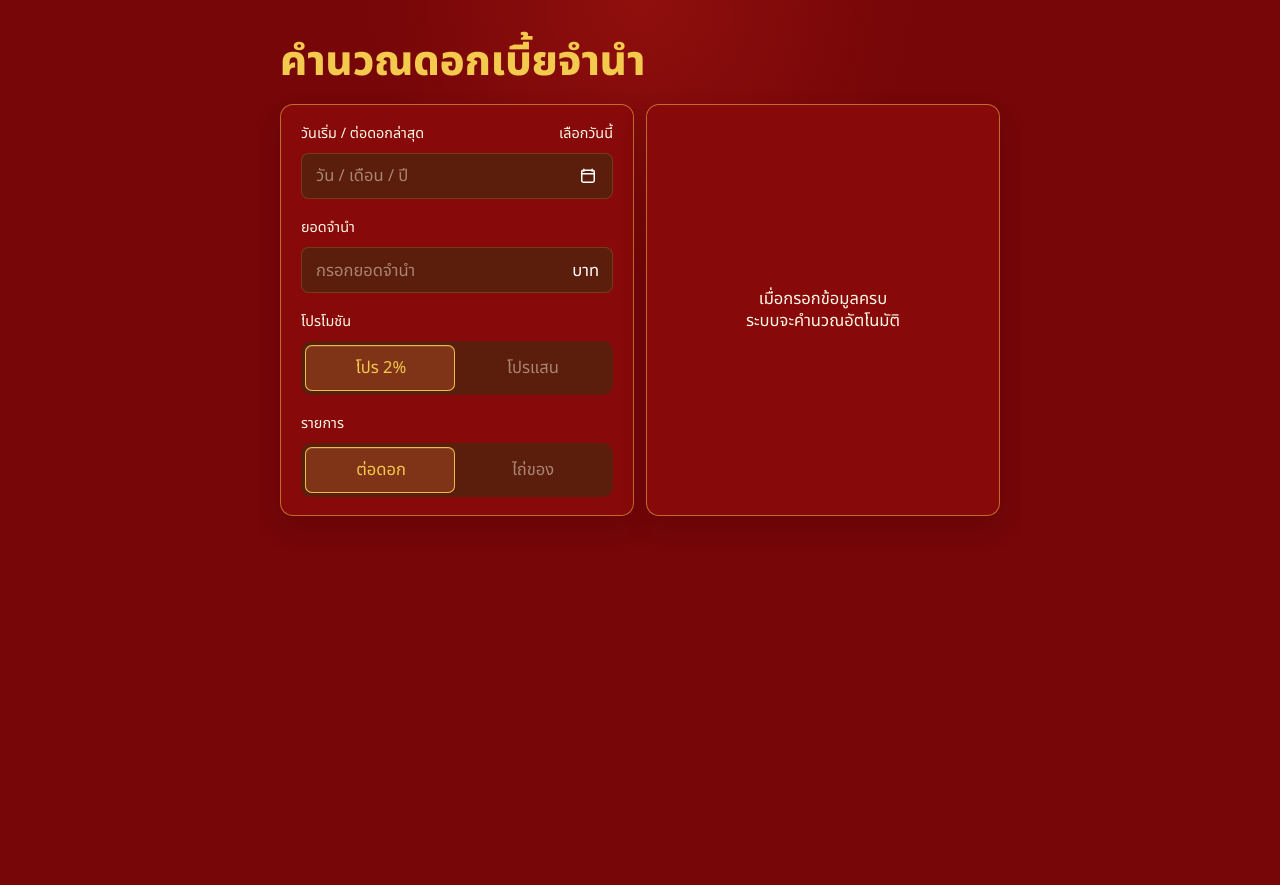
Test: ManualCalculator › shows one started month for same-day redeem
Click the button with aria-label "วันเริ่ม / ต่อดอกล่าสุด" at (362, 176), box x1=301 y1=153 x2=613 y2=199
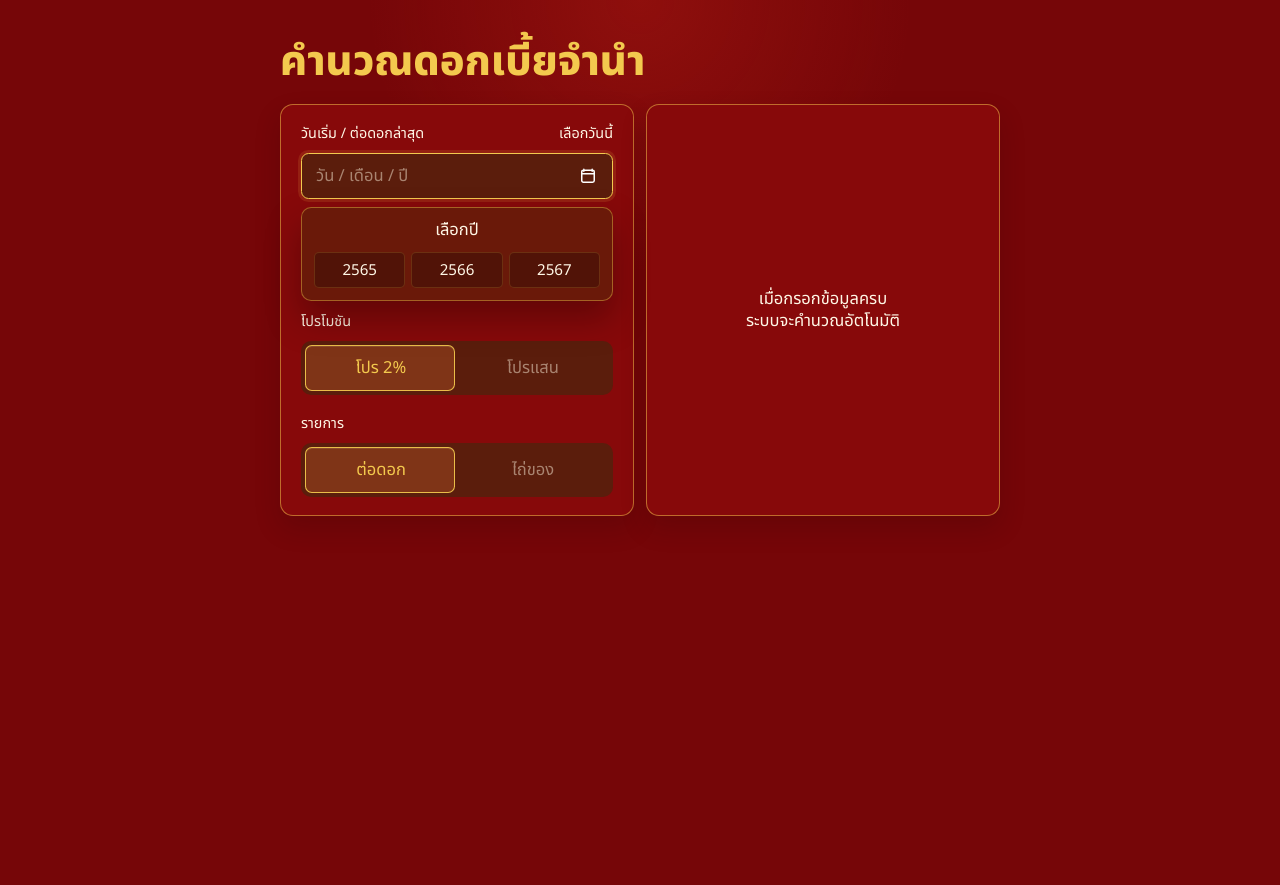
Click the button "2567" at (554, 270), box x1=509 y1=252 x2=600 y2=288
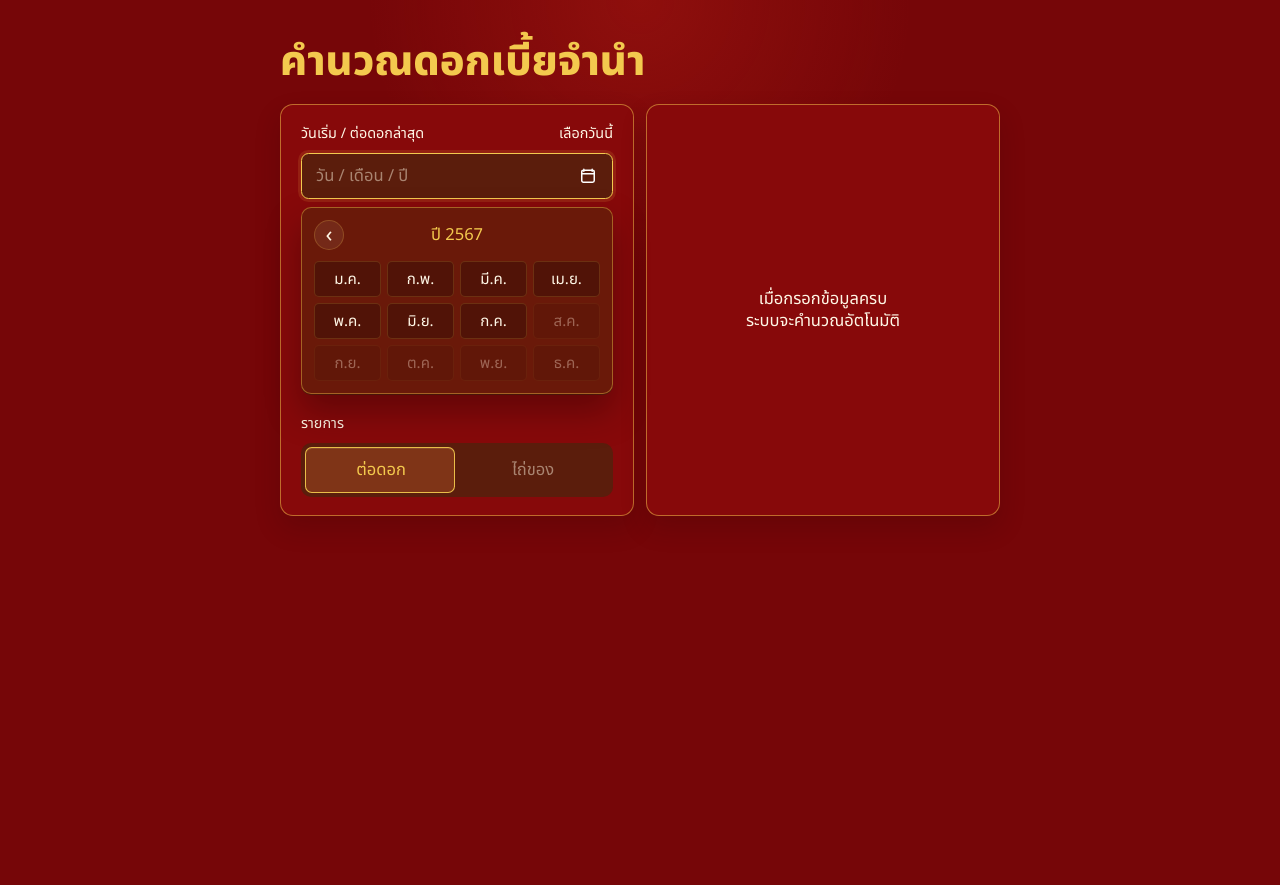
Click the button "ก.ค." at (494, 321), box x1=460 y1=303 x2=527 y2=339
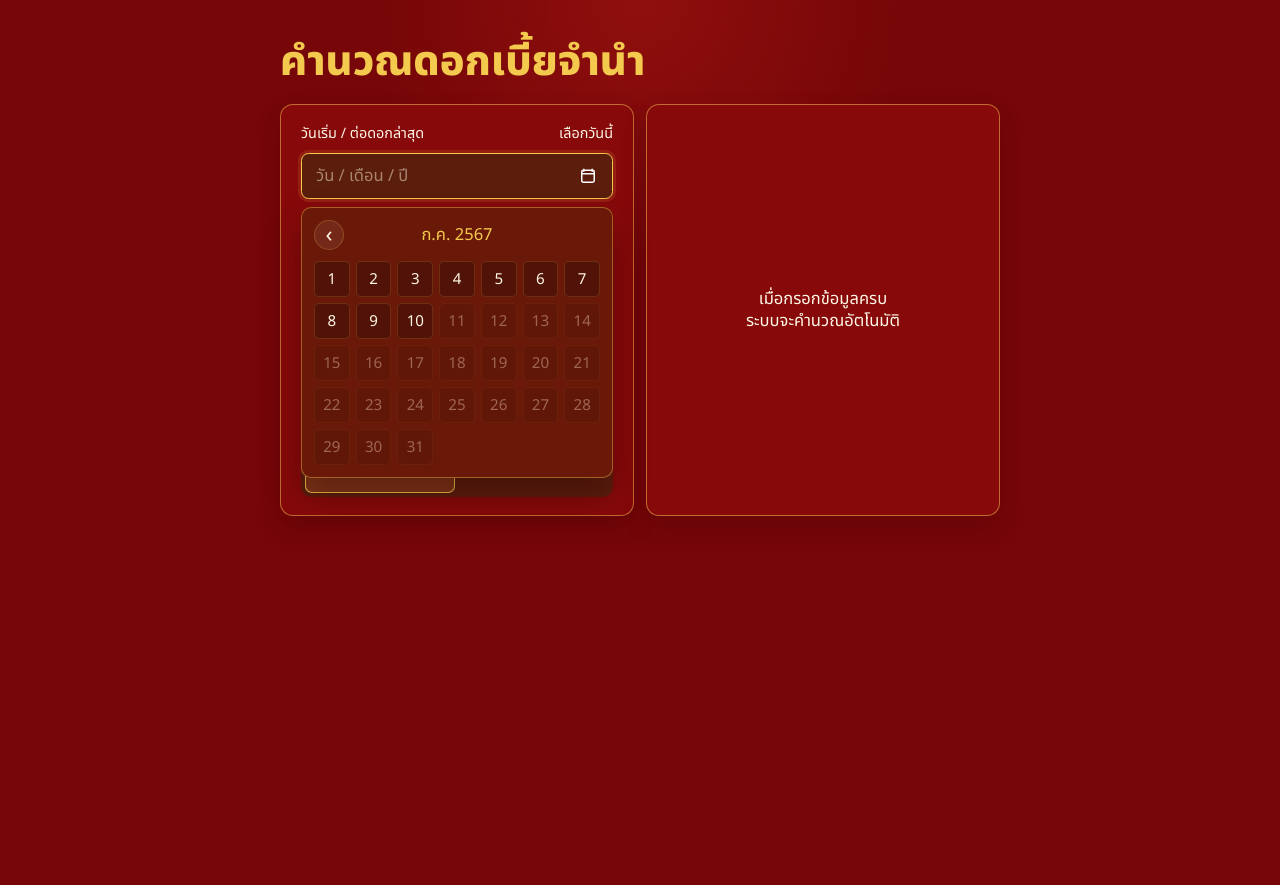
Click the button "10" at (415, 321), box x1=397 y1=303 x2=433 y2=339
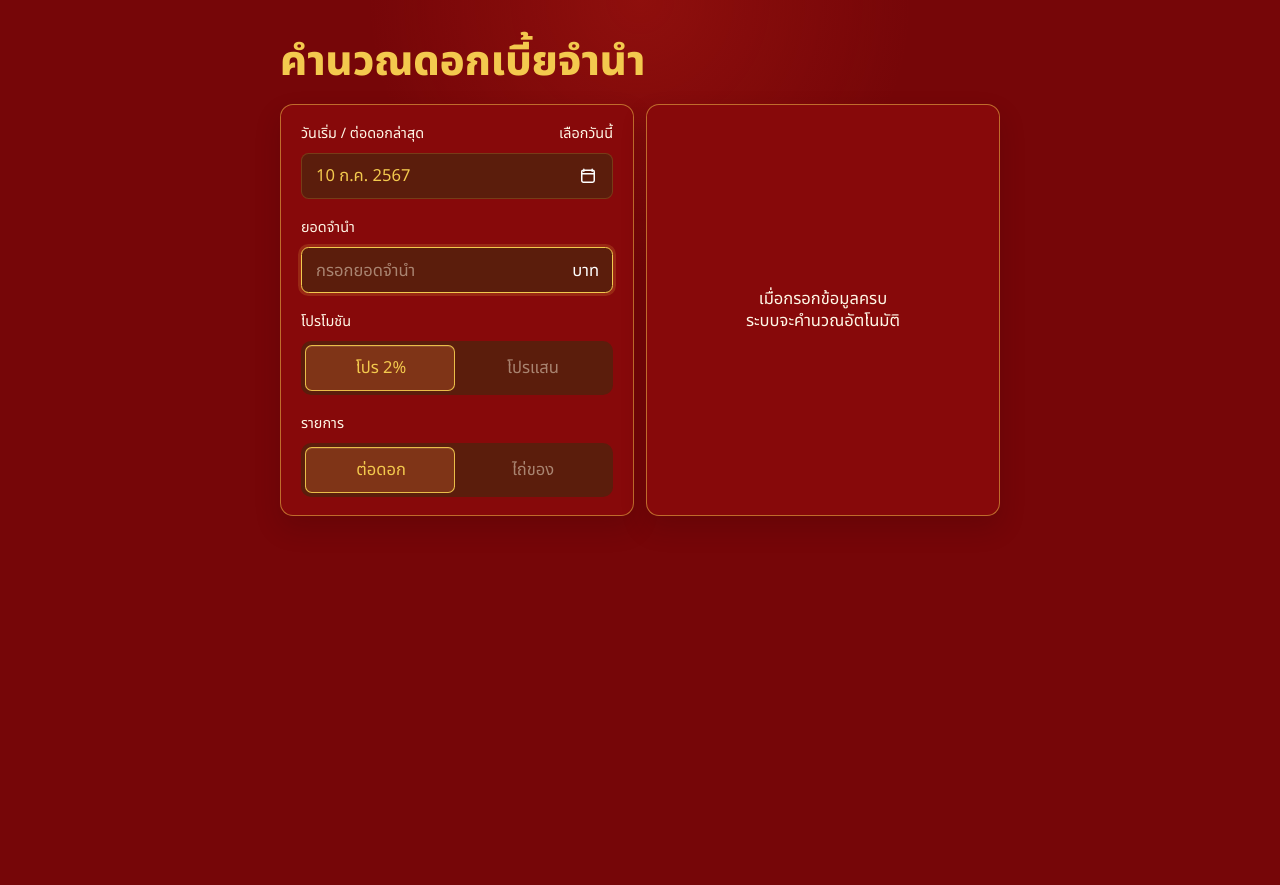
Type "12000" into the field labelled "ยอดจำนำ" at (457, 270), box x1=301 y1=247 x2=613 y2=293
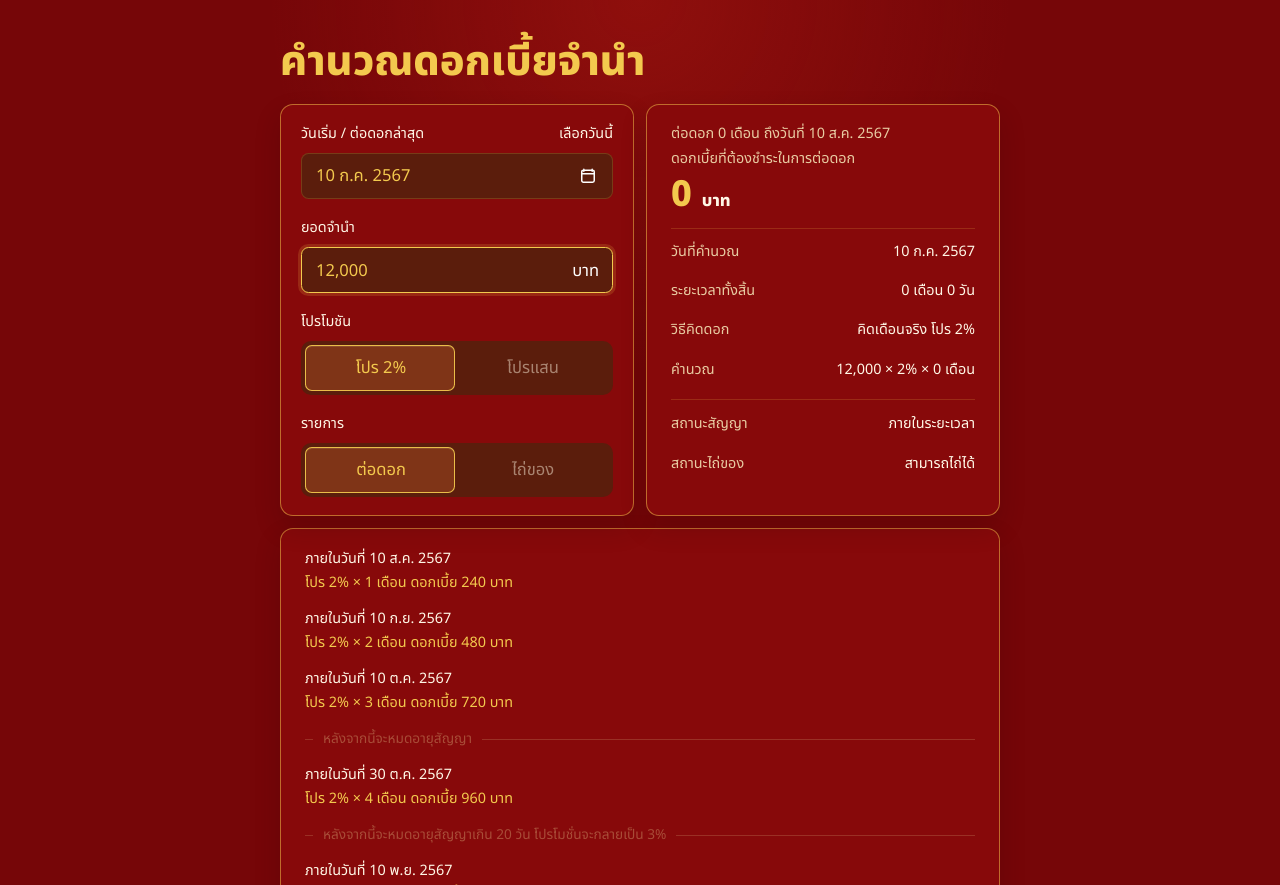
Click the radio button labelled "ไถ่ของ" at (533, 470), box x1=457 y1=447 x2=609 y2=493
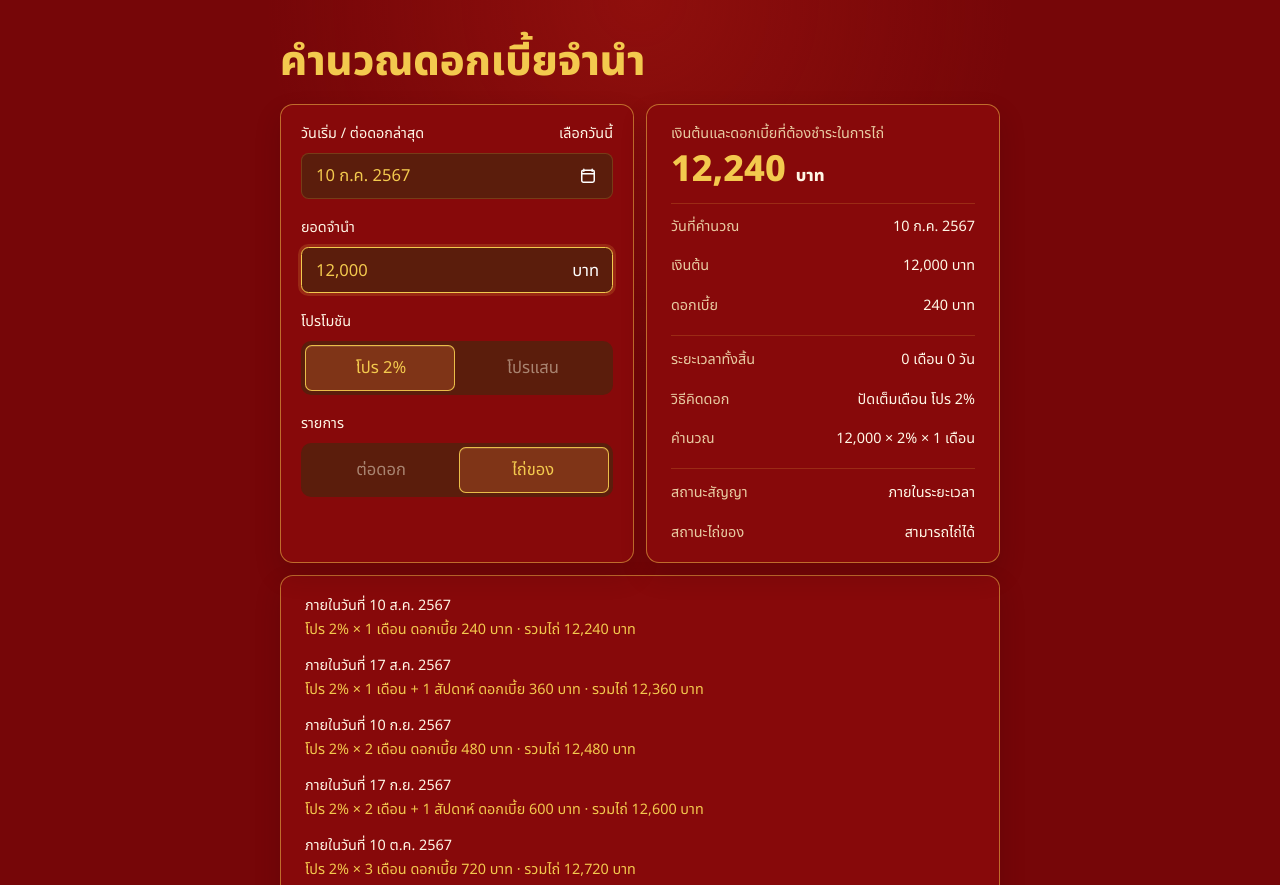
Check: the text "12,240" is shown, box x1=671 y1=143 x2=786 y2=197
Check: the text "12,000 × 2% × 1 เดือน" is shown, box x1=836 y1=428 x2=975 y2=449
Check: the text "ปัดเต็มเดือน โปร 2%" is shown, box x1=858 y1=389 x2=975 y2=410
